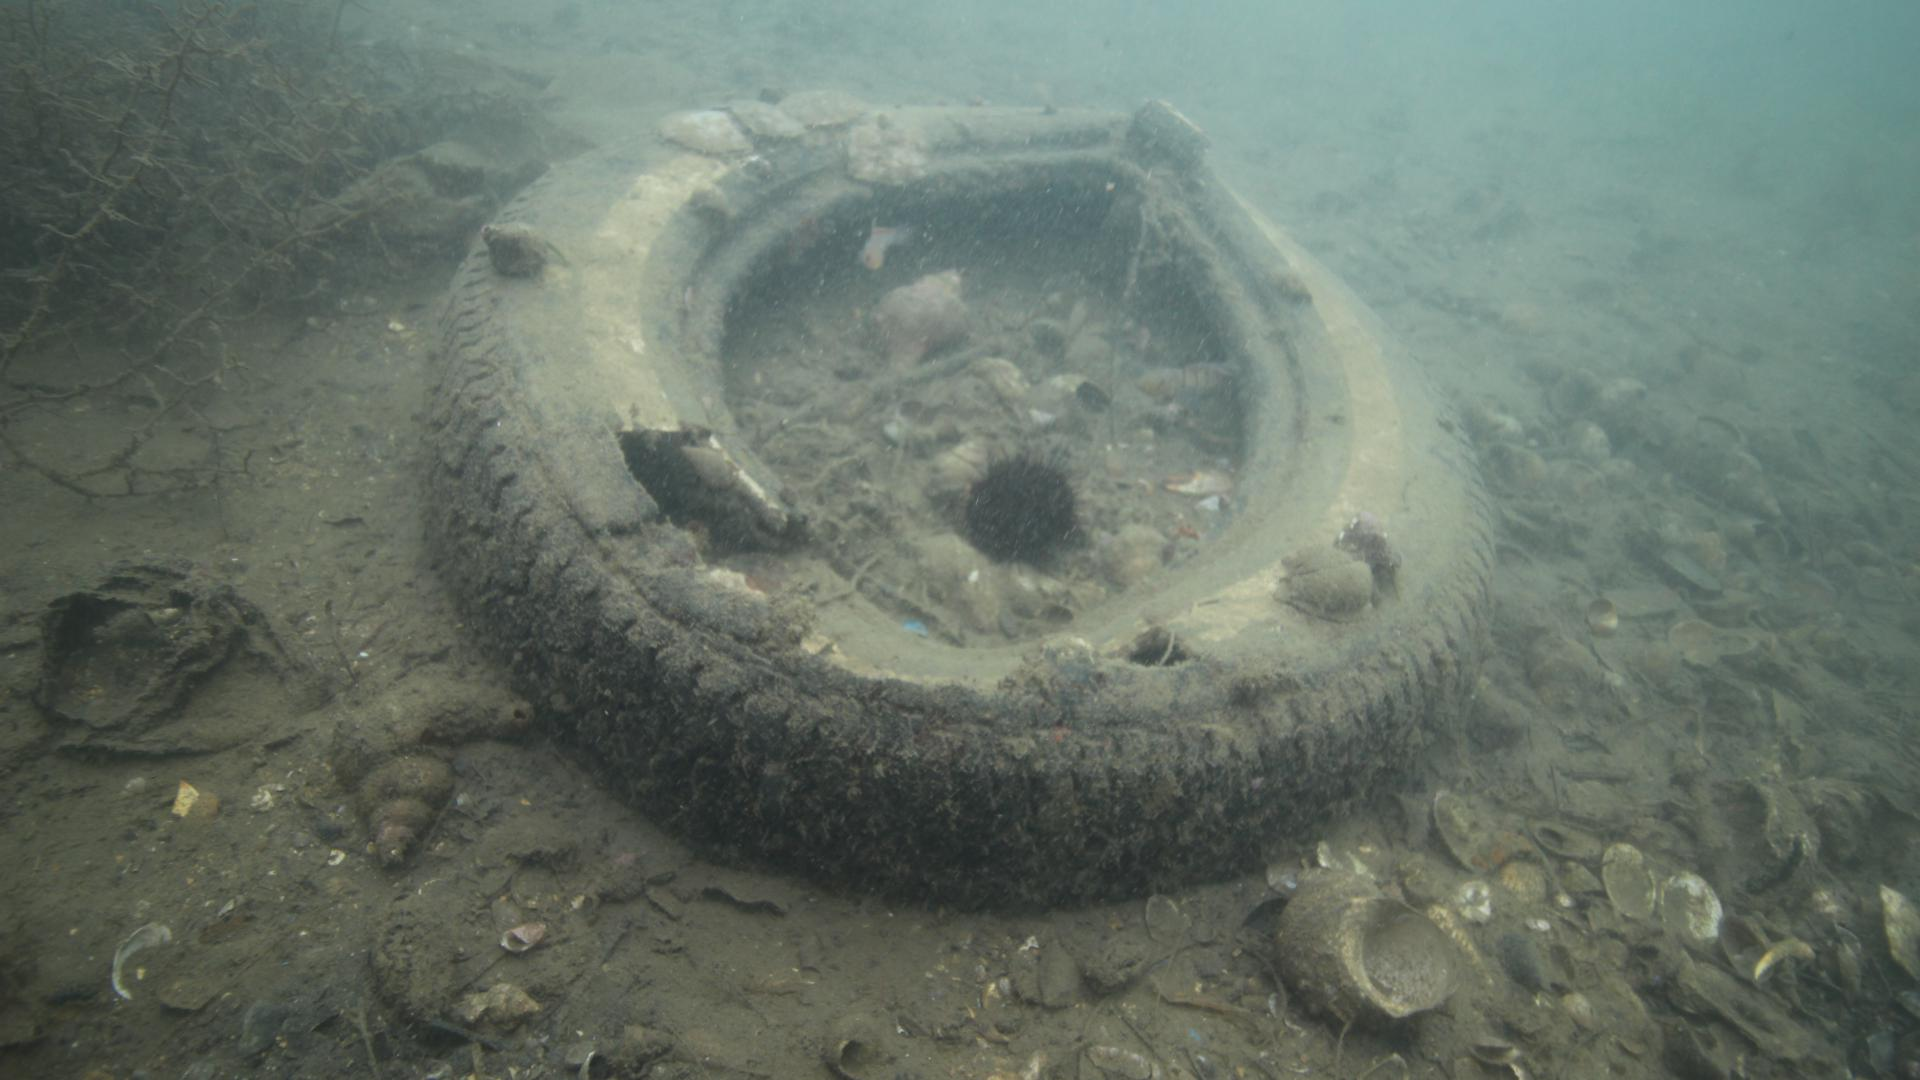tire: (419, 94, 1491, 918)
